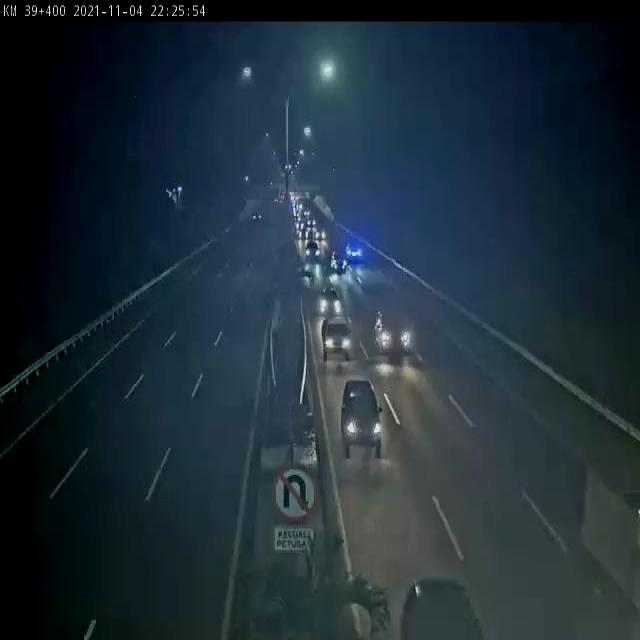Car: (339, 380, 386, 460), (374, 308, 412, 352), (322, 316, 354, 363), (318, 288, 343, 316), (330, 250, 348, 272), (346, 242, 364, 263), (304, 242, 321, 260)
Truck: (581, 459, 640, 632)
